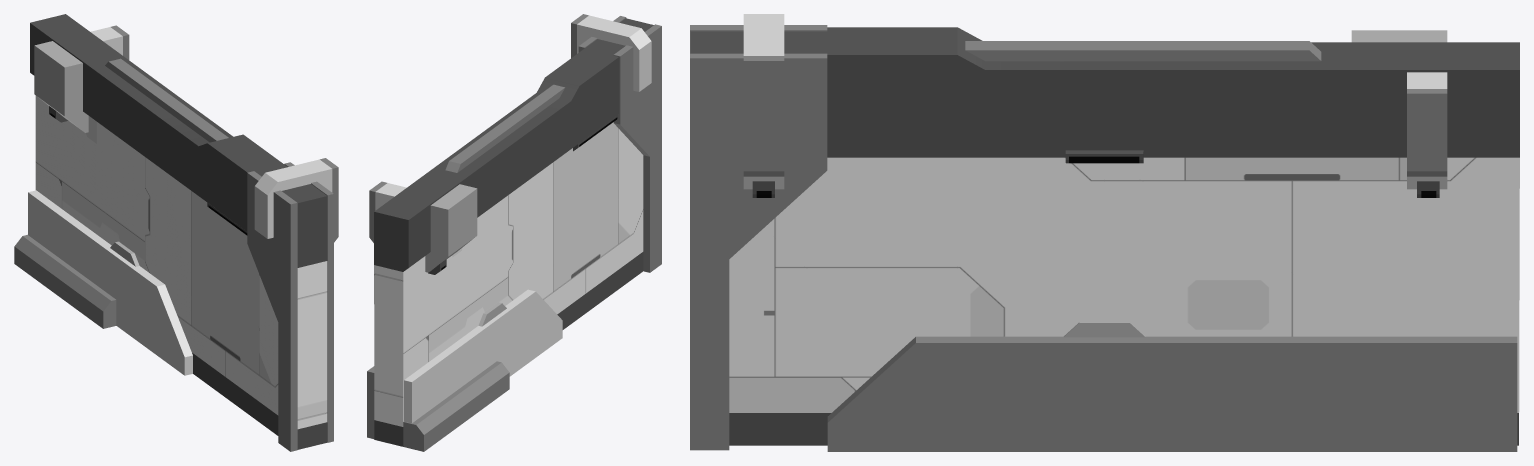
Rendered from SM_Wall_3x6_2.fbx.
The picture shows the model from 3 angles, left to right: view 1: azimuth 30°, elevation 25°; view 2: azimuth 150°, elevation 25°; view 3: azimuth 270°, elevation 25°; orthographic projection. The views are drawn at different scales.
Visible parts, largest first — view 1: SM_Wall_3x6_2; view 2: SM_Wall_3x6_2; view 3: SM_Wall_3x6_2.
Part boxes in pixels (x1=…): SM_Wall_3x6_2: x1=14, y1=14, x2=338, y2=451; SM_Wall_3x6_2: x1=367, y1=14, x2=661, y2=451; SM_Wall_3x6_2: x1=690, y1=14, x2=1519, y2=451.
Size of the model in its own units: 108 by 324 by 601.
